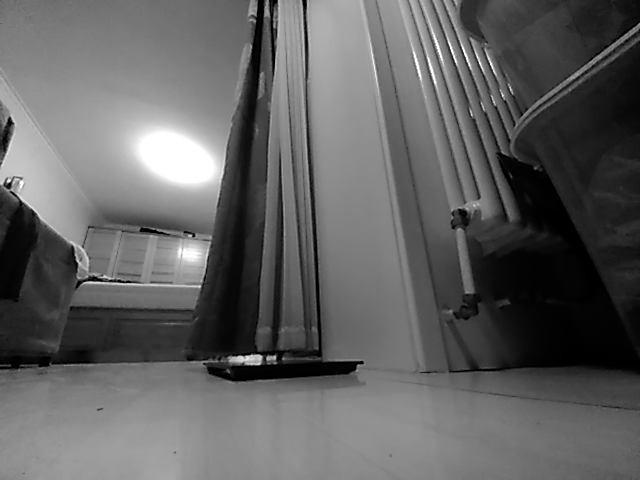curtain: (182, 1, 323, 360)
scale: (204, 360, 364, 382)
